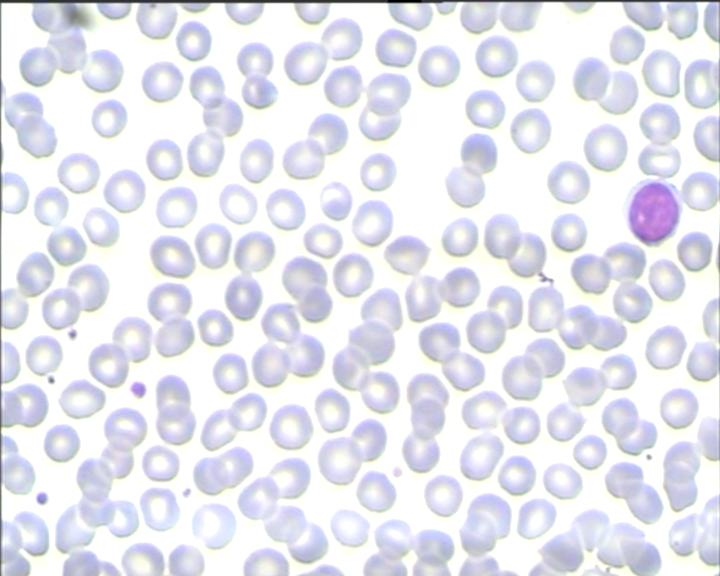lymp: (622, 176, 681, 248)
